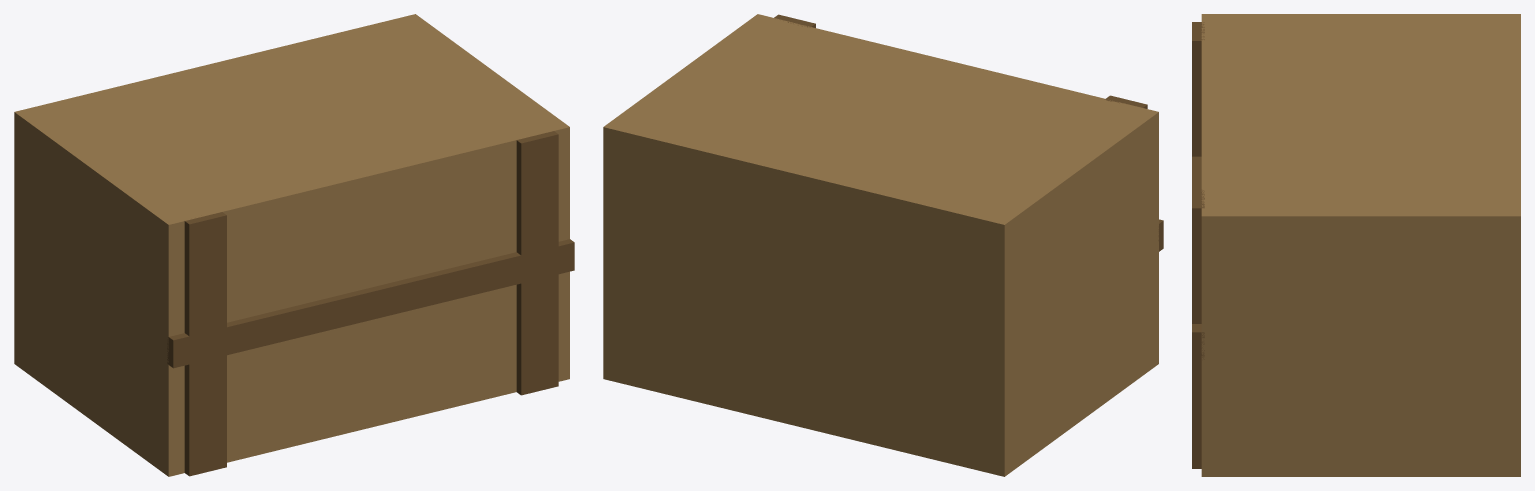
File: crate.glb
3 views of the same model, side by side, from view 1: azimuth 30°, elevation 25°; view 2: azimuth 150°, elevation 25°; view 3: azimuth 270°, elevation 25° (orthographic). The views are drawn at different scales.
Visible parts, largest first — view 1: crate; view 2: crate; view 3: crate.
Part boxes in pixels (box(x1,y1,x2,y2)): crate: box(14, 14, 574, 476); crate: box(603, 14, 1163, 476); crate: box(1192, 14, 1520, 476).
Size of the model in its own units: 1.5 by 0.9 by 1.03.
